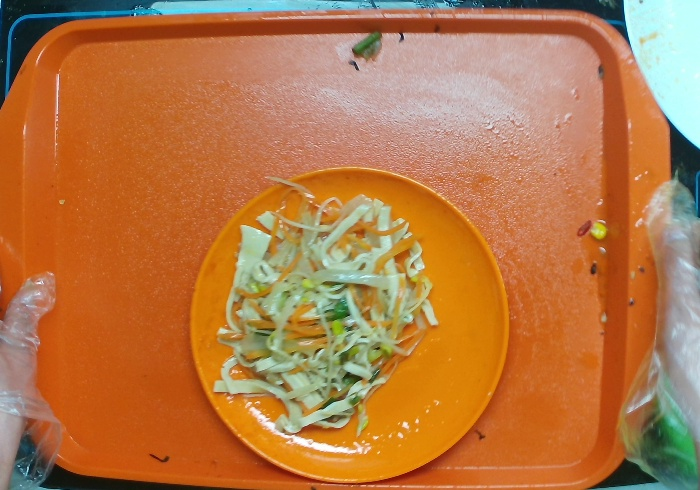HZYJPL-Ju_Huang_Yuan_Pan: (187, 163, 510, 486)
